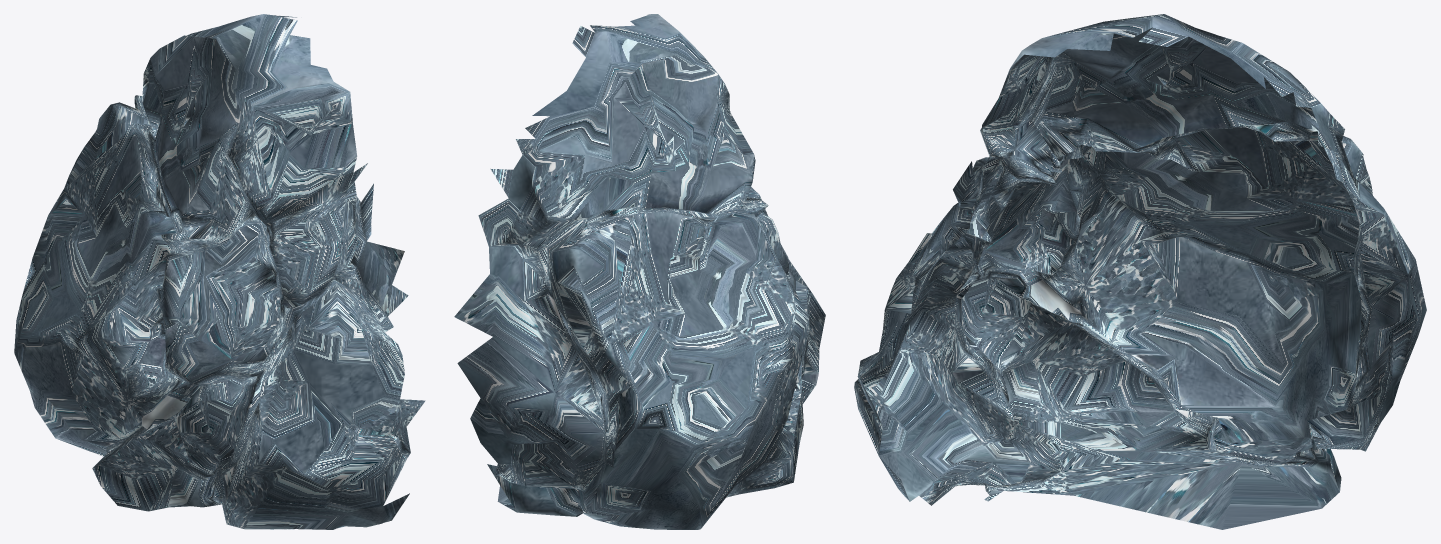
Rendered from hf_moonrock.glb.
3 renders of one model, left to right at view 1: azimuth 30°, elevation 25°; view 2: azimuth 150°, elevation 25°; view 3: azimuth 270°, elevation 25°, orthographic. The views are drawn at different scales.
Bounding box in the file's own units: 1.03 × 1.6 × 1.72.
1 material, 1 textured.
